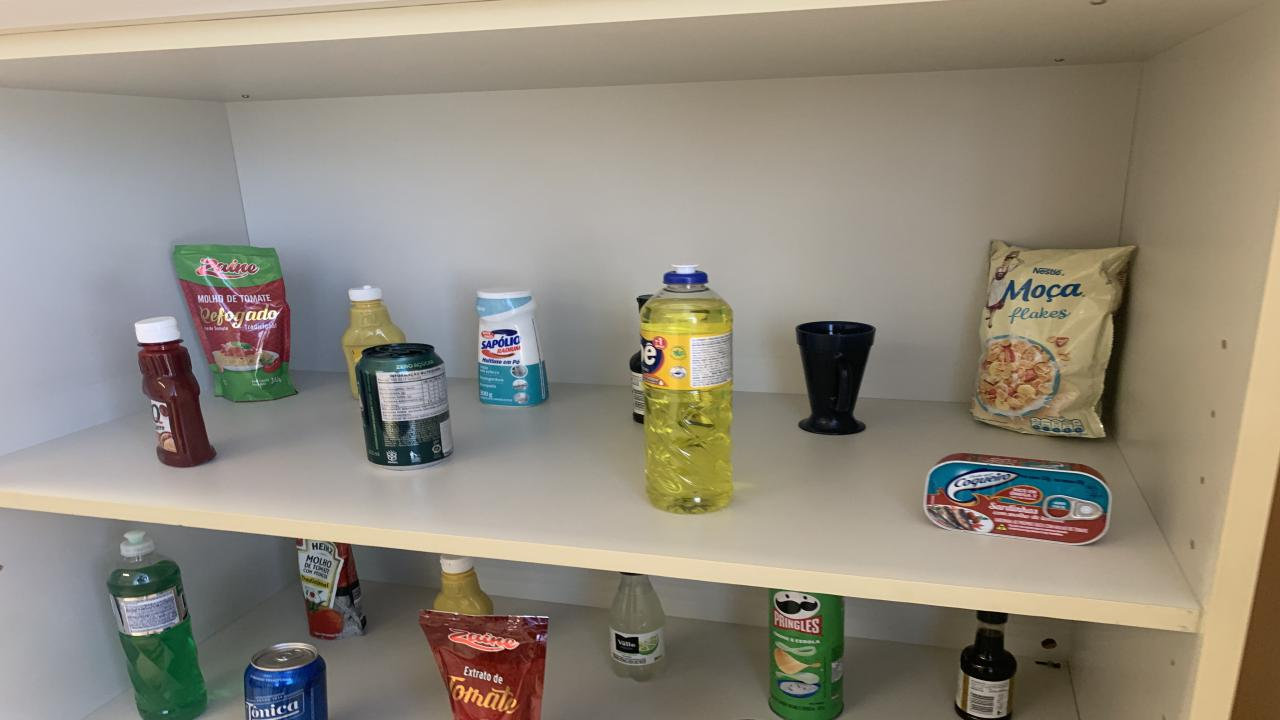Cleaner-Cleanup_Items: (475, 289, 548, 405)
Detergent-Cleanup_Items: (640, 274, 732, 514), (108, 532, 208, 718)
English_Sauce-Pantry_Items: (955, 611, 1018, 718), (610, 574, 665, 634), (630, 351, 645, 424), (638, 294, 650, 308)
Flakes-Snacks: (970, 240, 1135, 437)
Ketchup-Pantry_Items: (135, 317, 215, 467)
Mustard-Pantry_Items: (342, 285, 405, 398), (432, 555, 492, 615)
Pringles-Snacks: (770, 589, 845, 720)
Soda-Drinks: (610, 574, 665, 682)
Tomato_Sauce-Pantry_Items: (172, 244, 295, 401), (420, 609, 548, 720), (295, 538, 368, 639)
Tonic-Drinks: (245, 643, 328, 720)
Tuna_Can-Pantry_Items: (922, 454, 1112, 546), (355, 343, 452, 469)
